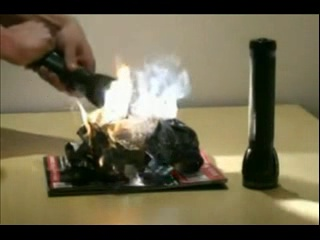fire: (75, 64, 126, 151)
smoke: (126, 57, 190, 139)
